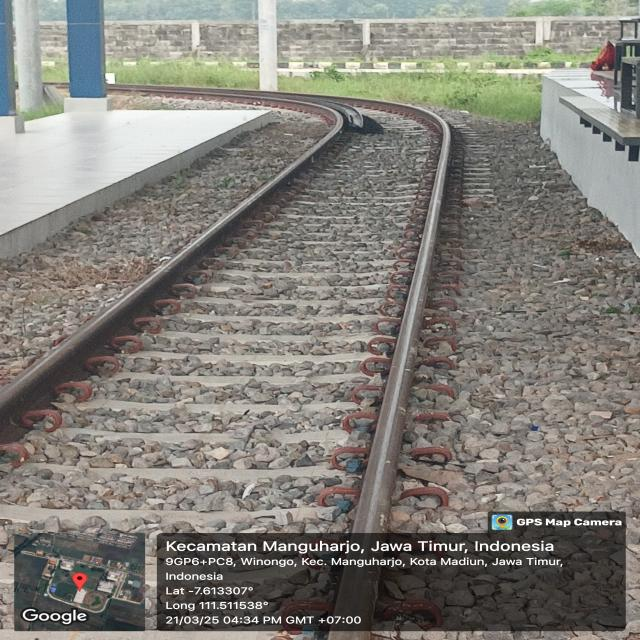rail-detection: (0, 93, 344, 420), (351, 140, 449, 533)
